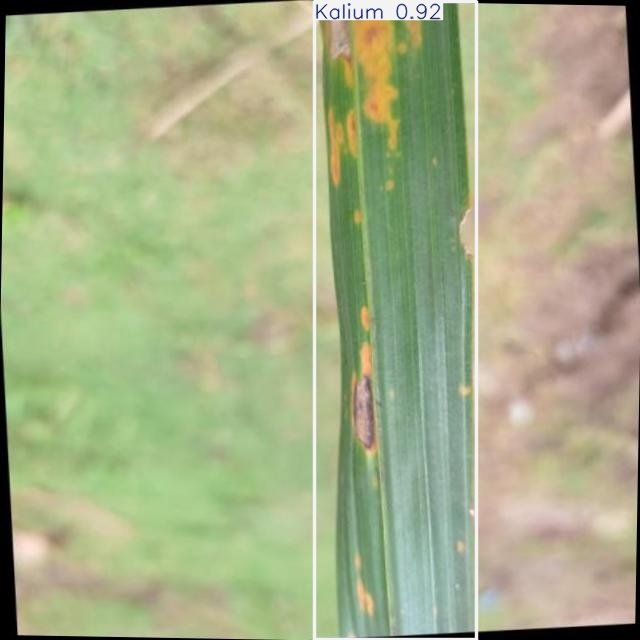Kalium: (315, 2, 477, 639)
